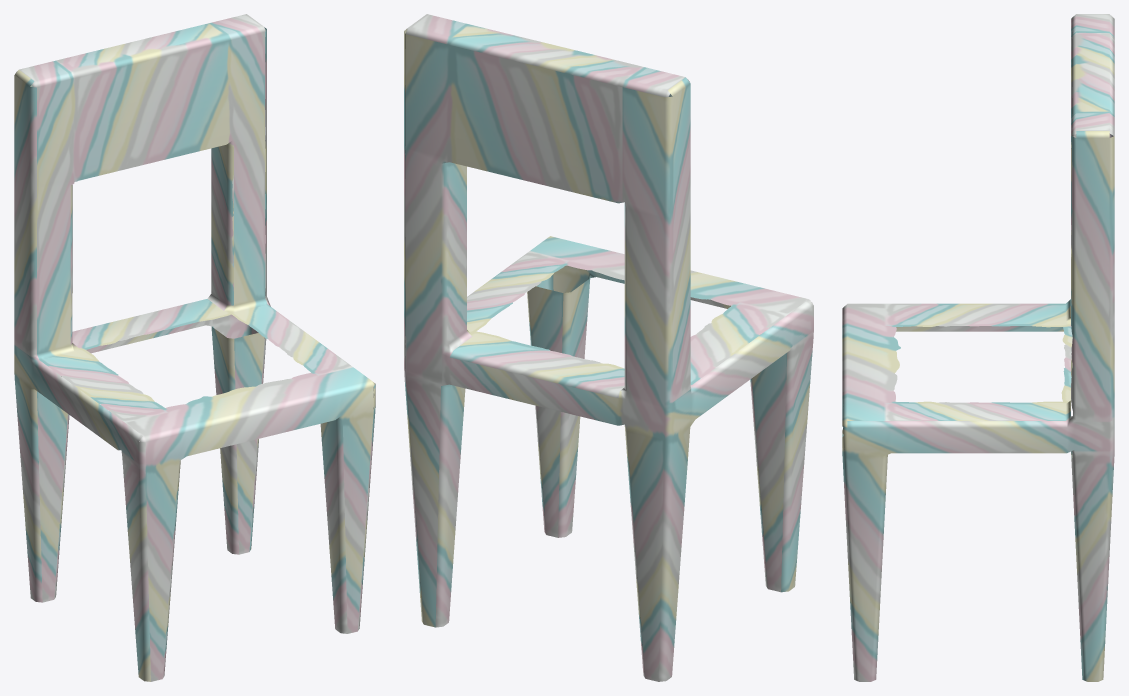
File: Chair_exp.fbx
3 views of the same model, side by side, from view 1: azimuth 30°, elevation 25°; view 2: azimuth 150°, elevation 25°; view 3: azimuth 270°, elevation 25° (orthographic). The views are drawn at different scales.
Visible parts, largest first — view 1: pCube1; view 2: pCube1; view 3: pCube1.
Part boxes in pixels (left/top/right/bottom): pCube1: left=14, top=14, right=375, bottom=681; pCube1: left=404, top=14, right=813, bottom=681; pCube1: left=842, top=14, right=1114, bottom=681.
Size of the model in its own units: 2.42 by 5.13 by 2.29.
Materials: 1 (1 with a texture image).
